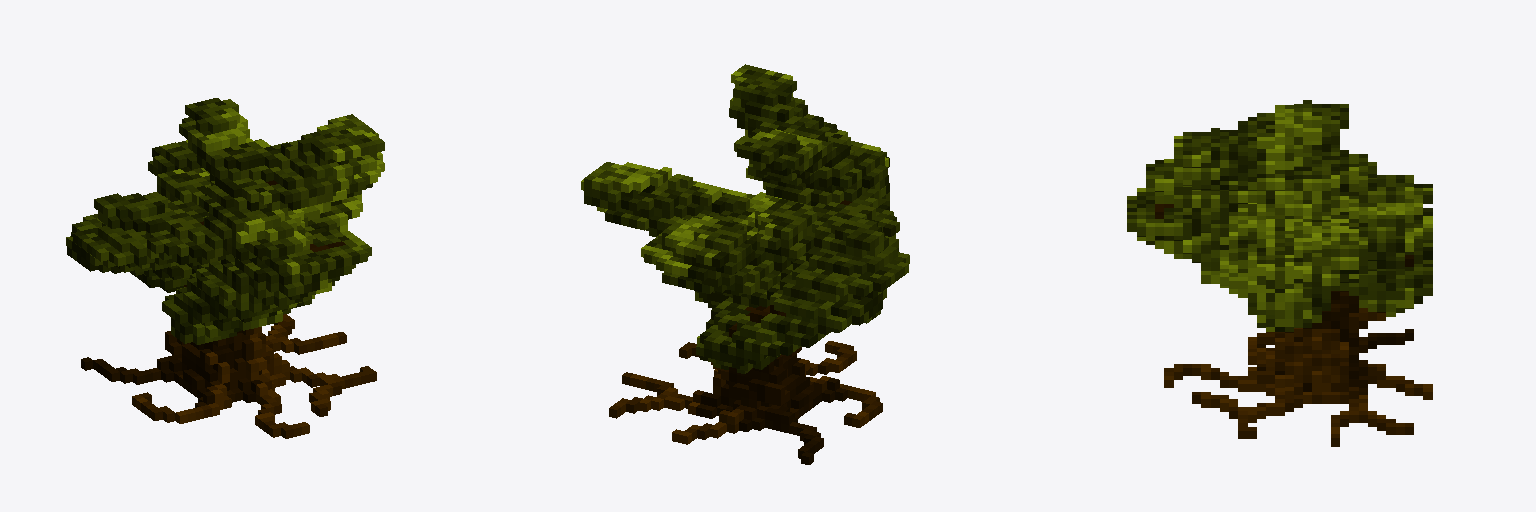
3 views of the same model, side by side, from view 1: azimuth 30°, elevation 25°; view 2: azimuth 150°, elevation 25°; view 3: azimuth 270°, elevation 25° (orthographic).
Parts seen in each view (by area): view 1: model_Tree_1_Full.obj; view 2: model_Tree_1_Full.obj; view 3: model_Tree_1_Full.obj.
Part boxes in pixels (x1,y1,x2,y2): model_Tree_1_Full.obj: (66, 98, 384, 438); model_Tree_1_Full.obj: (581, 64, 909, 464); model_Tree_1_Full.obj: (1127, 100, 1432, 446).
Bounding box in the file's own units: 37 × 32 × 33.
Materials: 1 (1 with a texture image).